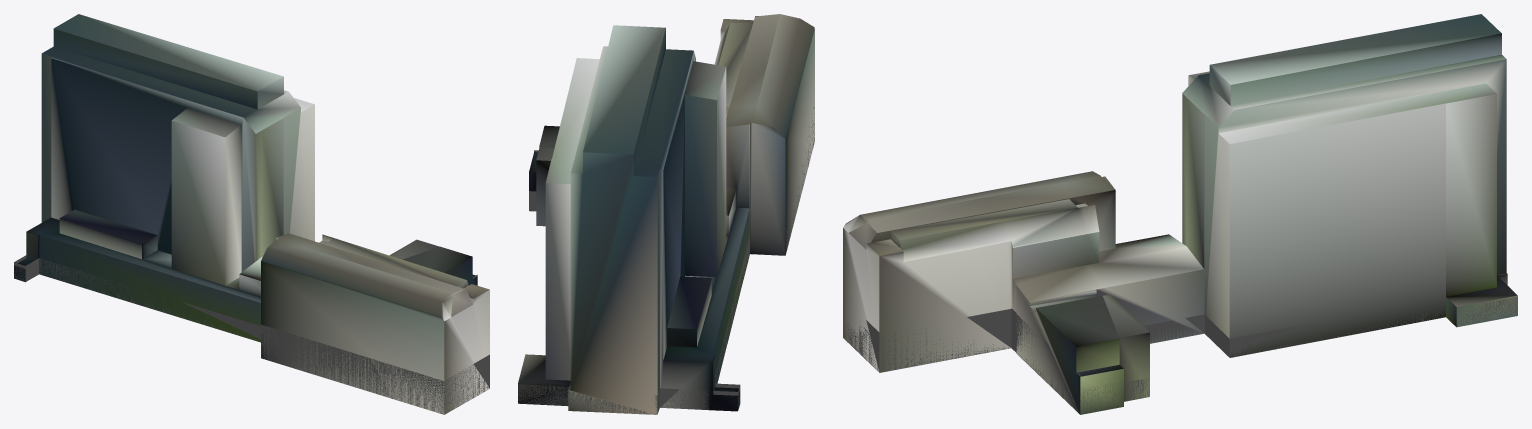
3 renders of one model, left to right at view 1: azimuth 30°, elevation 25°; view 2: azimuth 150°, elevation 25°; view 3: azimuth 270°, elevation 25°, orthographic. The views are drawn at different scales.
Parts seen in each view (by area): view 1: c_m15_m10; view 2: c_m15_m10; view 3: c_m15_m10.
Part boxes in pixels (<box>): c_m15_m10: <box>14,14,489,414</box>; c_m15_m10: <box>518,14,814,414</box>; c_m15_m10: <box>843,14,1517,414</box>.
Size of the model in its own units: 61.2 by 40.02 by 95.85.
